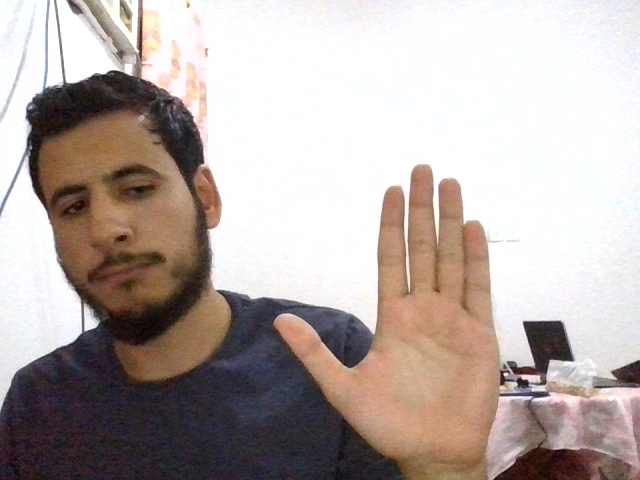Five: (272, 164, 503, 464)
